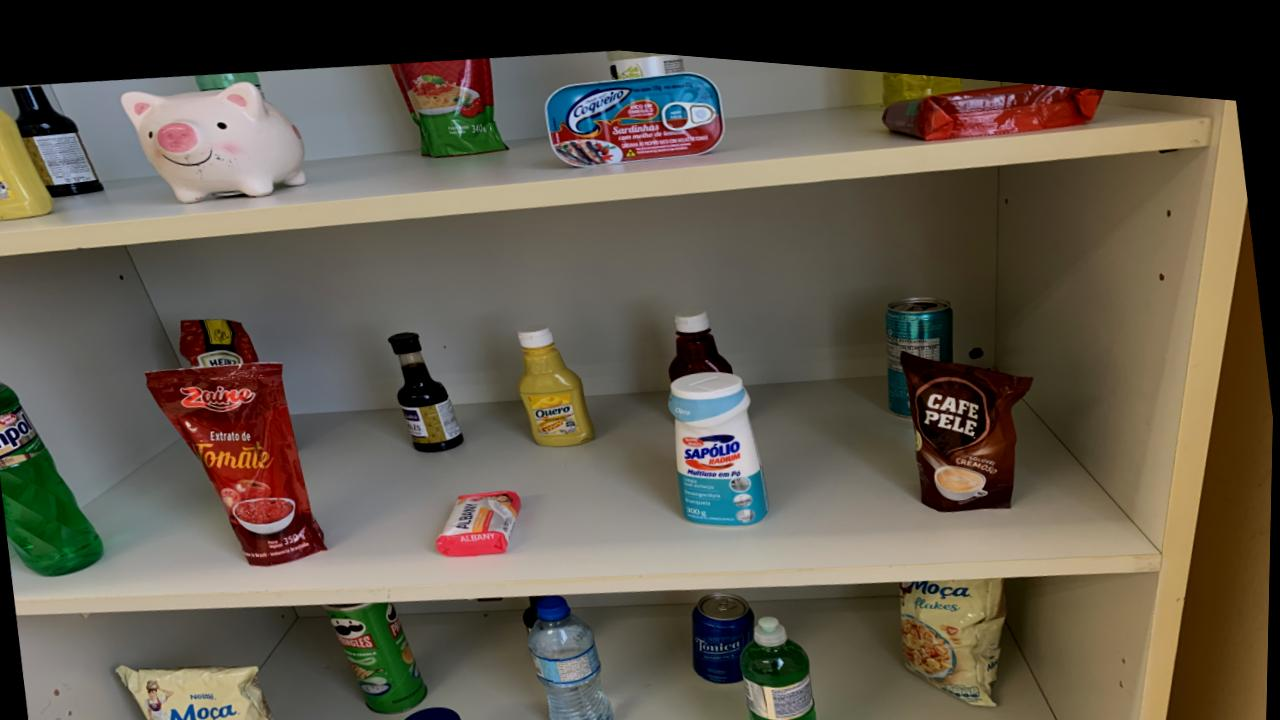Cleaner-Cleanup_Items: (670, 358, 770, 513)
Coffee-Pantry_Items: (900, 337, 1033, 495)
Detergent-Cleanup_Items: (0, 381, 106, 575), (741, 602, 820, 720), (882, 57, 962, 91)
English_Sauce-Pantry_Items: (12, 83, 104, 196), (390, 324, 465, 444)
Flakes-Snacks: (901, 560, 1008, 690), (120, 661, 279, 720)
Guarana-Drinks: (195, 67, 265, 93)
Guava-Snacks: (882, 65, 1104, 124)
Ketchup-Pantry_Items: (671, 297, 734, 368)
Mayonnaise-Pantry_Items: (402, 699, 467, 720)
Mustard-Pantry_Items: (519, 315, 596, 436), (0, 109, 54, 219)
Pig_Safe-Miscellaneous: (120, 77, 306, 199)
Pringles-Snacks: (325, 595, 430, 707)
Soap-Cleanup_Items: (437, 481, 523, 548)
Soda-Drinks: (605, 39, 685, 68)
Tea-Drinks: (886, 280, 955, 401)
Tomato_Sauce-Pantry_Items: (147, 357, 328, 560), (391, 49, 507, 149), (180, 315, 260, 363)
Tonic-Drinks: (693, 579, 757, 670)
Tuna_Can-Pantry_Items: (545, 60, 725, 156)
Water_Bottle-Drinks: (531, 584, 616, 720)
